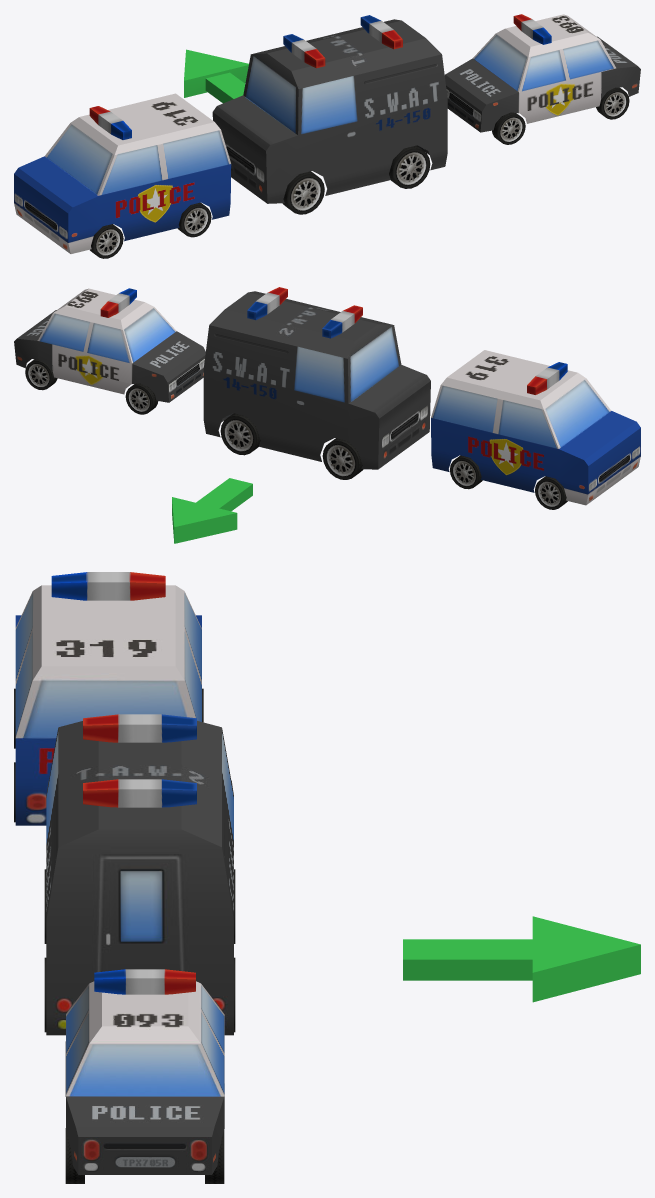
File: 警车done2.fbx
3 renders of one model, top to bottom at view 1: azimuth 30°, elevation 25°; view 2: azimuth 150°, elevation 25°; view 3: azimuth 270°, elevation 25°, orthographic. The views are drawn at different scales.
Visible parts, largest first — view 1: 警车3_1, 警车2_1, 警车1_1, 箭头, 轮子, 轮子_1, 轮子_2_3, 轮子_1_2, 轮子_3_4, 轮子_1_3; view 2: 警车3_1, 警车2_1, 警车1_1, 箭头, 轮子_3, 轮子_2, 轮子_3_2, 轮子_2_2, 轮子_3_3, 轮子_2_4; view 3: 警车3_1, 警车1_1, 警车2_1, 箭头.
Part boxes in pixels (x1,y1,x2,y2): 警车3_1: (212, 15, 447, 203); 警车2_1: (14, 93, 231, 253); 警车1_1: (444, 14, 640, 132); 箭头: (184, 49, 248, 103); 轮子: (282, 171, 324, 214); 轮子_1: (389, 145, 430, 188); 轮子_2_3: (90, 224, 123, 258); 轮子_1_2: (177, 202, 211, 237); 轮子_3_4: (492, 112, 525, 144); 轮子_1_3: (596, 87, 629, 119); 警车3_1: (203, 287, 430, 469); 警车2_1: (431, 350, 640, 505); 警车1_1: (14, 288, 205, 402); 箭头: (172, 478, 252, 543); 轮子_3: (322, 438, 363, 479); 轮子_2: (220, 413, 260, 455); 轮子_3_2: (535, 476, 567, 509); 轮子_2_2: (450, 455, 482, 489); 轮子_3_3: (125, 383, 158, 414); 轮子_2_4: (25, 359, 57, 390); 警车3_1: (46, 714, 233, 1035); 警车1_1: (66, 969, 224, 1174); 警车2_1: (15, 572, 201, 825); 箭头: (403, 916, 640, 1002).
Bounding box in the file's own units: 768 × 176 × 412.
Materials: 5 (4 with a texture image).
